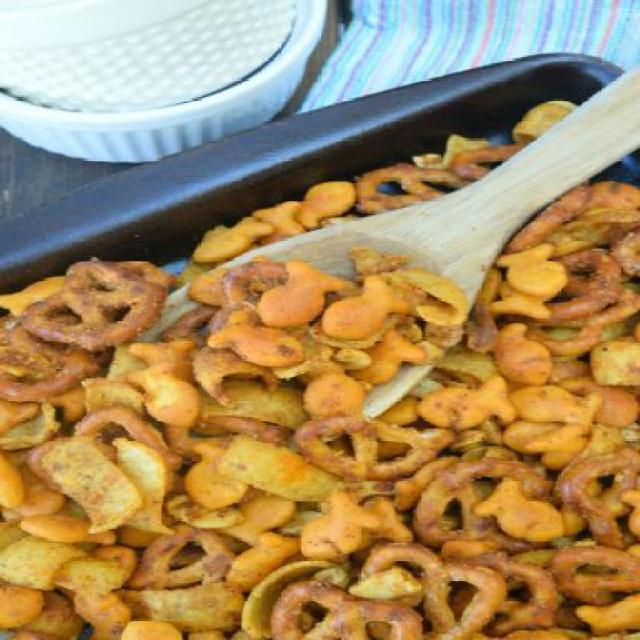Salatini packaged: (9, 155, 640, 640)
